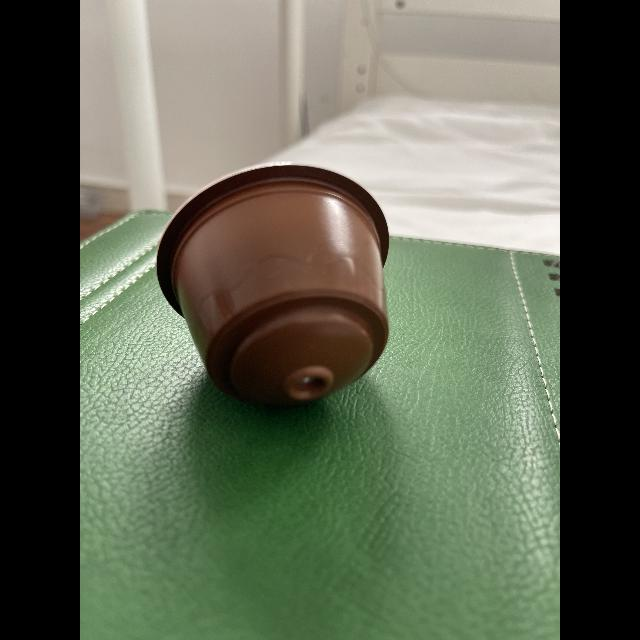intact_capsule: (148, 156, 400, 422)
